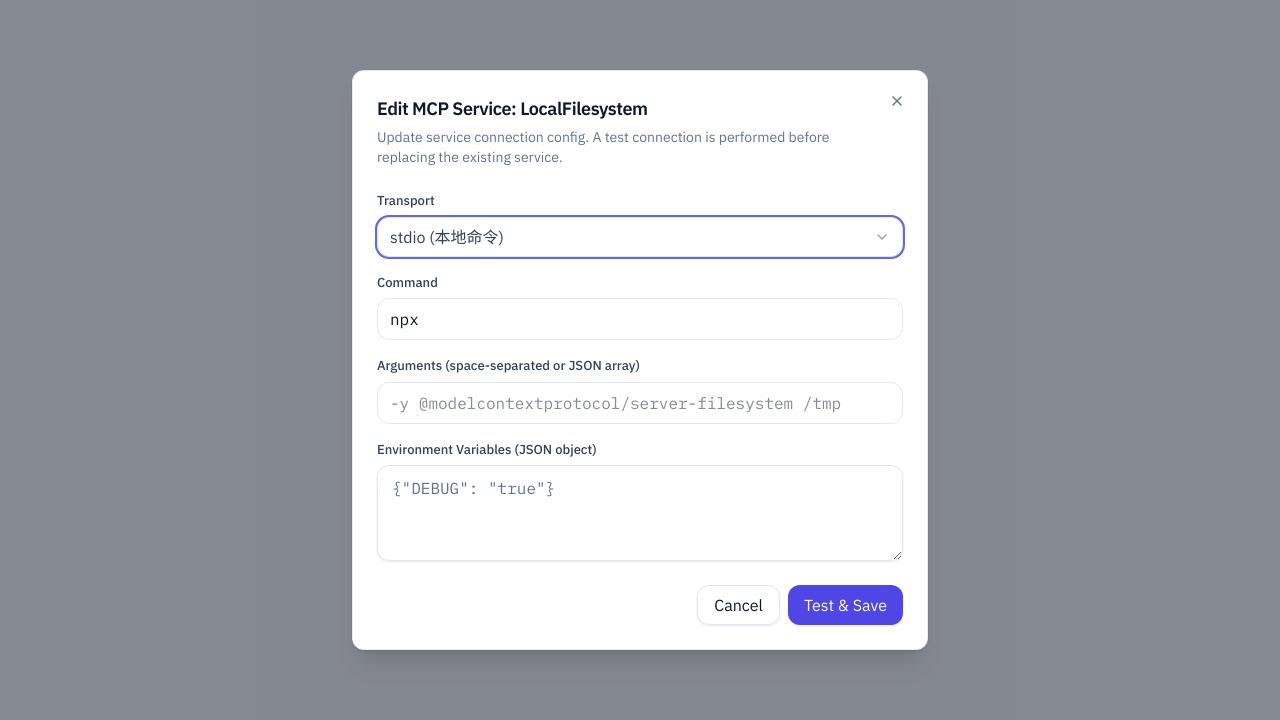
Test: McpEditorDialog › displays error message when update fails
Click the button "Test & Save" at (845, 605), box [788,585,903,625]
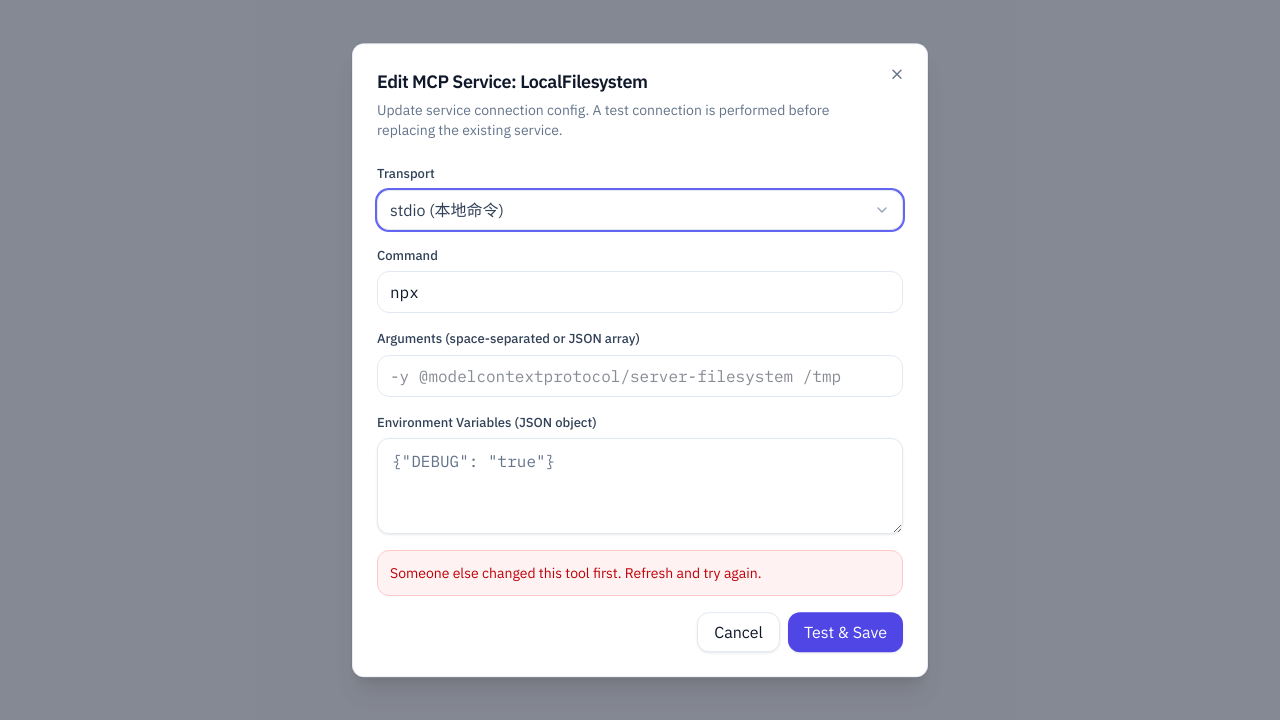
Expected: the text "Someone else changed this tool first. Refresh and try again." is shown, [377,550,903,596]
